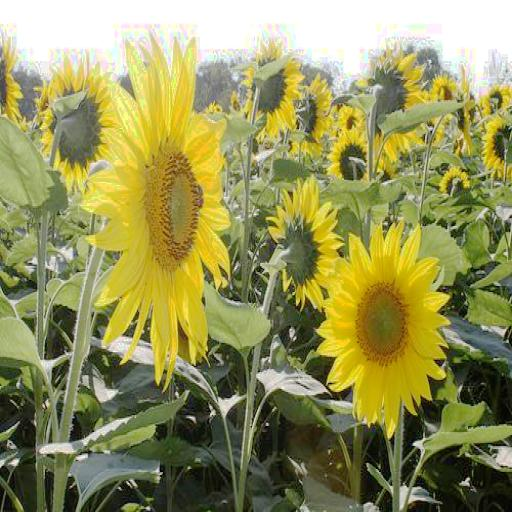sunflower: (82, 32, 234, 388), (318, 215, 448, 432), (37, 56, 109, 184), (269, 178, 329, 312), (367, 48, 425, 104), (326, 129, 372, 188), (483, 111, 511, 183)
